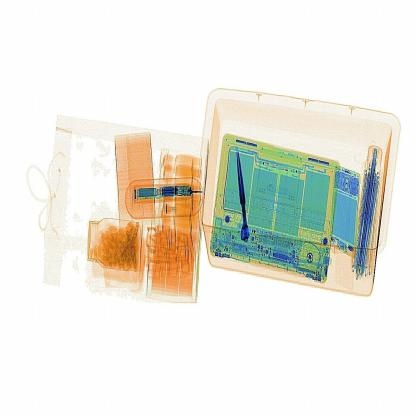gun: (230, 135, 262, 254)
